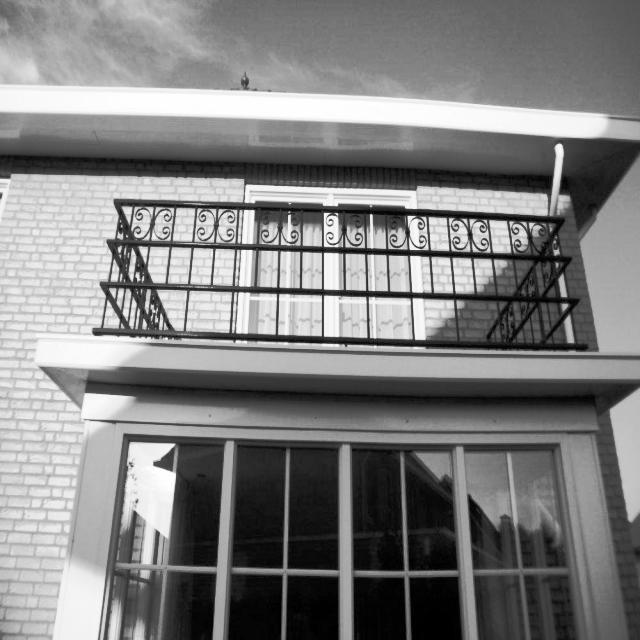fences: (122, 207, 609, 372)
